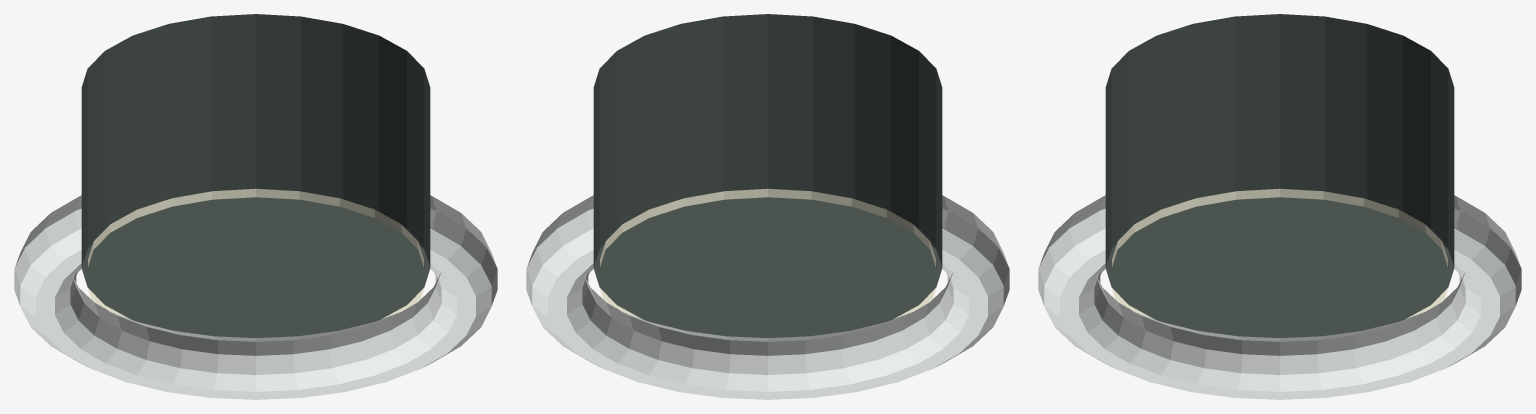
File: ceiling_light.0fb79e1e3f2b.glb
The picture shows the model from 3 angles, left to right: view 1: azimuth 30°, elevation 25°; view 2: azimuth 150°, elevation 25°; view 3: azimuth 270°, elevation 25°; orthographic projection.
Parts seen in each view (by area): view 1: Dark detail, Powder-coated white, Lens; view 2: Dark detail, Powder-coated white, Lens; view 3: Dark detail, Powder-coated white, Lens.
Boxes of the visible parts, x1,y1,x2,y2 form: Dark detail: (81,14,430,337); Powder-coated white: (14,195,497,399); Lens: (88,188,423,318); Dark detail: (593,14,942,337); Powder-coated white: (526,195,1009,399); Lens: (600,188,935,318); Dark detail: (1105,14,1454,337); Powder-coated white: (1038,195,1521,399); Lens: (1112,188,1447,318).
Bounding box in the file's own units: 0.39 × 0.1938 × 0.3879.
